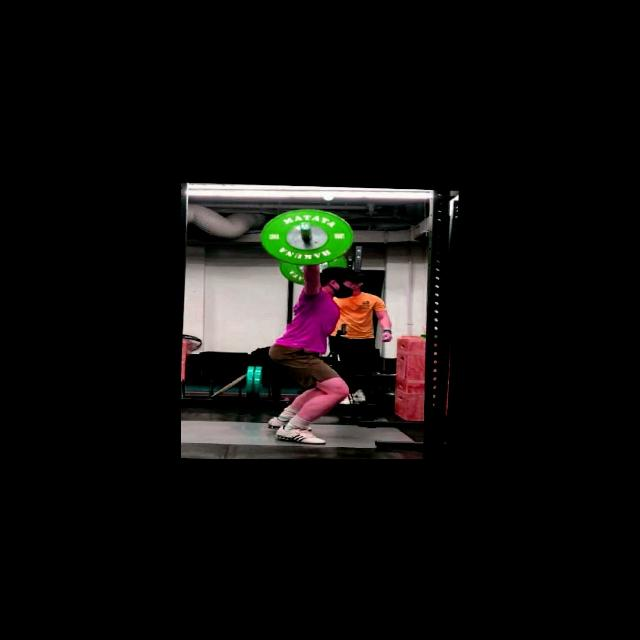barbell: (257, 206, 357, 268)
